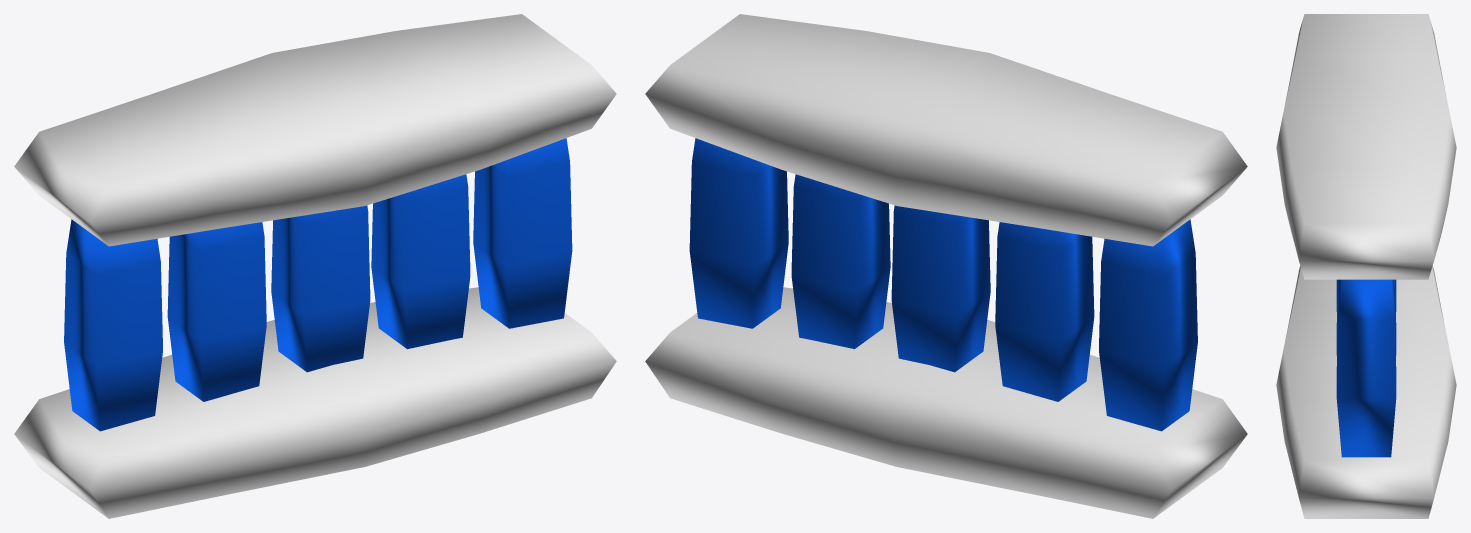
Rendered from Fence.fbx.
The picture shows the model from 3 angles, left to right: view 1: azimuth 30°, elevation 25°; view 2: azimuth 150°, elevation 25°; view 3: azimuth 270°, elevation 25°; orthographic projection. The views are drawn at different scales.
Parts seen in each view (by area): view 1: Cube.001; view 2: Cube.001; view 3: Cube.001.
Boxes of the visible parts, left/top/right/bottom form: Cube.001: left=14, top=14, right=616, bottom=518; Cube.001: left=645, top=14, right=1247, bottom=518; Cube.001: left=1276, top=14, right=1456, bottom=518.
Bounding box in the file's own units: 228 × 144 × 76.31.
